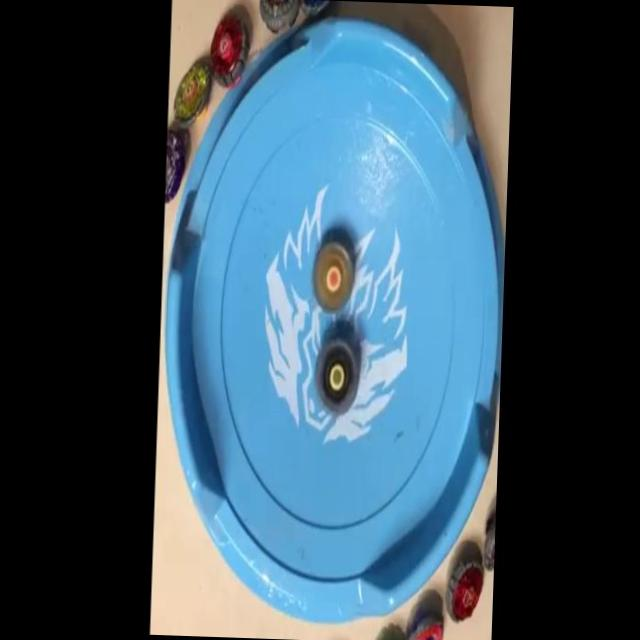Beyblade: (313, 340, 360, 415), (208, 10, 250, 90), (312, 242, 354, 312), (444, 555, 484, 624), (172, 65, 213, 131)
